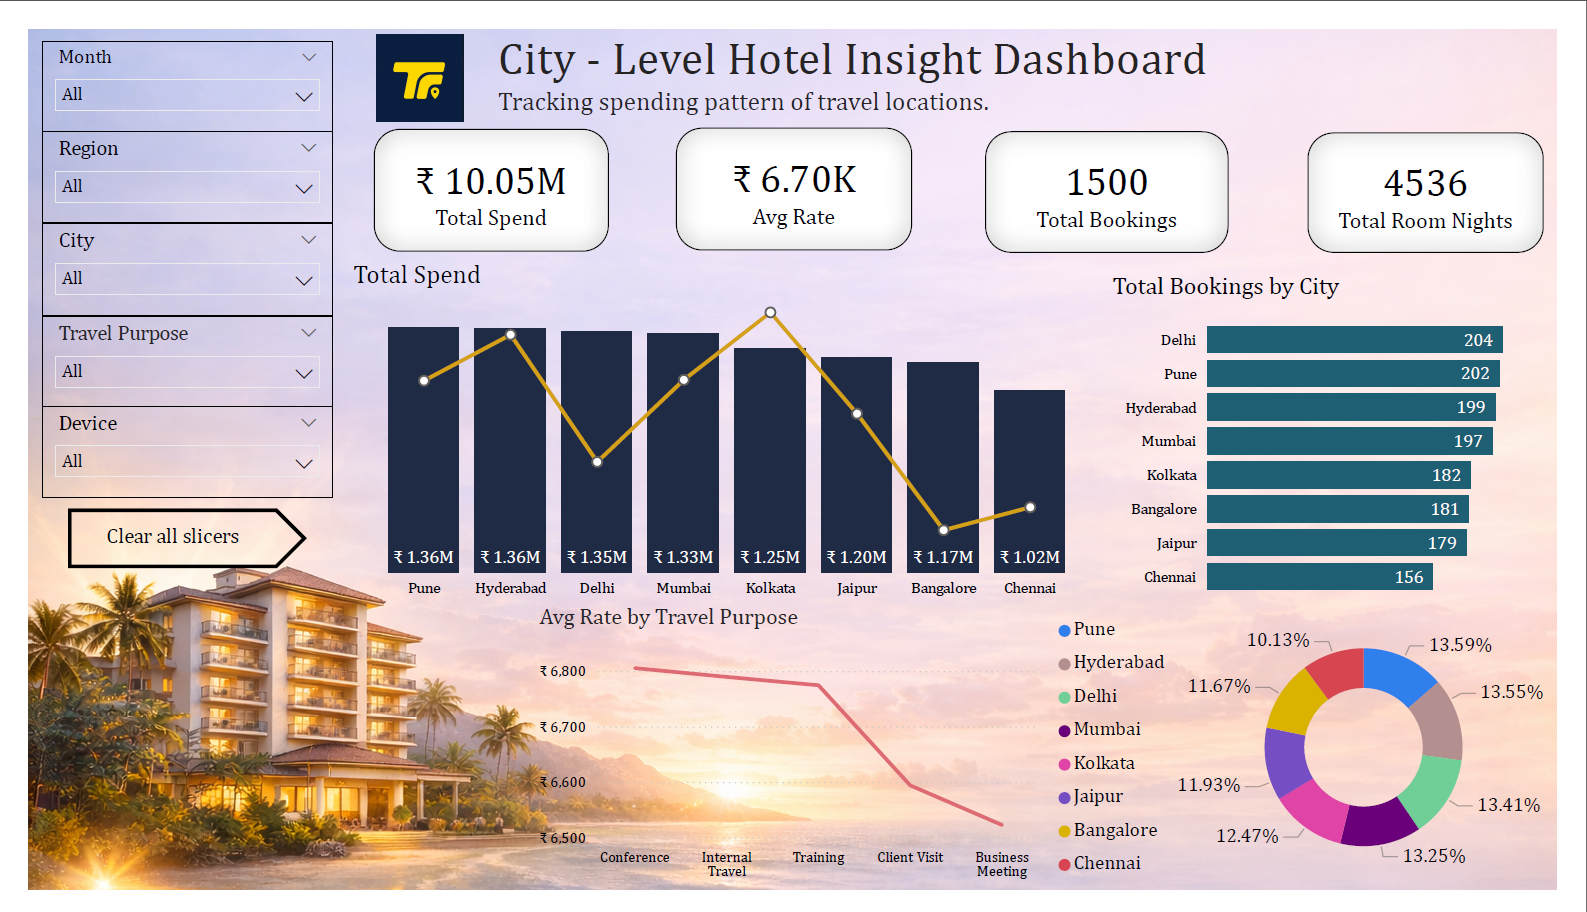

Layout of this report page (visuals, bound fields, positions):
{"tool":"powerbi","page":{"name":"Dashboard","canvas":[1280,720],"ordinal":0},"visuals":[{"type":"textbox","box":[387.7,0,617.2,79.8],"z":0},{"type":"card","fields":{"Values":["FactCityBookings.Total Spend"]},"box":[288.6,82.9,197.1,102.9],"z":1000},{"type":"card","fields":{"Values":["FactCityBookings.Avg Rate"]},"box":[542.3,82.2,197.5,103.1],"z":2000},{"type":"card","fields":{"Values":["FactCityBookings.Total Bookings"]},"box":[801.2,84.7,203.7,101.8],"z":3000},{"type":"card","fields":{"Values":["FactCityBookings.Total Room Nights"]},"box":[1071.4,85.7,197.1,101.4],"z":4000},{"type":"lineStackedColumnComboChart","title":"Total Spend ","fields":{"Category":["DimHotels.City"],"Y":["FactCityBookings.Total Spend"],"Y2":["FactCityBookings.Avg Rate"]},"box":[267.5,192.6,635.6,289.6],"z":5000},{"type":"clusteredBarChart","fields":{"Category":["DimHotels.City"],"Y":["FactCityBookings.Total Bookings"]},"box":[903.1,203.7,376.7,282.2],"z":6000},{"type":"donutChart","fields":{"Category":["DimHotels.City"],"Y":["FactCityBookings.Total Spend"]},"box":[856.4,482.2,423.3,238],"z":7000},{"type":"actionButton","box":[32.9,401.4,200,50],"z":8000},{"type":"image","box":[267.5,3.7,120.2,73.6],"z":9000},{"type":"slicer","fields":{"Values":["DimDate.MonthYear"]},"box":[11.4,8.6,244.3,77.1],"z":9000,"group":"g1"},{"type":"group","id":"g1","title":"Group 1","box":[11.4,8.6,244.3,382.9],"z":10000},{"type":"slicer","fields":{"Values":["DimHotels.Region"]},"box":[11.4,84.7,244.2,77.3],"z":10000,"group":"g1"},{"type":"lineChart","fields":{"Category":["DimTravelPurpose.TravelPurpose"],"Y":["FactCityBookings.Avg Rate"]},"box":[423.3,482.2,433.1,238],"z":10001},{"type":"slicer","fields":{"Values":["DimHotels.City"]},"box":[11.4,162,244.2,77.3],"z":11000,"group":"g1"},{"type":"slicer","fields":{"Values":["DimTravelPurpose.TravelPurpose"]},"box":[11.4,239.3,244.2,76.1],"z":12000,"group":"g1"},{"type":"slicer","fields":{"Values":["FactCityBookings.BookedFromDevice"]},"box":[11.4,314.3,244.3,77.1],"z":13000,"group":"g1"}]}

Visuals, with their boxes in screenshot pixels (x1, y1, x2, y2), scaled from the page's 1280x720 canvas onto the 1587x912 screenshot:
textbox: Rect(481, 0, 1246, 101)
card - FactCityBookings.Total Spend: Rect(358, 105, 602, 235)
card - FactCityBookings.Avg Rate: Rect(672, 104, 917, 235)
card - FactCityBookings.Total Bookings: Rect(993, 107, 1246, 236)
card - FactCityBookings.Total Room Nights: Rect(1328, 109, 1573, 237)
"Total Spend " lineStackedColumnComboChart: Rect(332, 244, 1120, 611)
clusteredBarChart - DimHotels.City x FactCityBookings.Total Bookings: Rect(1120, 258, 1586, 615)
donutChart - DimHotels.City x FactCityBookings.Total Spend: Rect(1062, 611, 1586, 911)
actionButton: Rect(41, 508, 289, 572)
image: Rect(332, 5, 481, 98)
slicer - DimDate.MonthYear: Rect(14, 11, 317, 109)
"Group 1" group: Rect(14, 11, 317, 496)
slicer - DimHotels.Region: Rect(14, 107, 317, 205)
lineChart - DimTravelPurpose.TravelPurpose x FactCityBookings.Avg Rate: Rect(525, 611, 1062, 911)
slicer - DimHotels.City: Rect(14, 205, 317, 303)
slicer - DimTravelPurpose.TravelPurpose: Rect(14, 303, 317, 400)
slicer - FactCityBookings.BookedFromDevice: Rect(14, 398, 317, 496)
